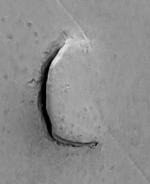crack: (0, 1, 150, 184)
